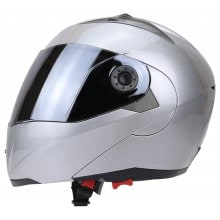with_helmet: (4, 12, 219, 188)
